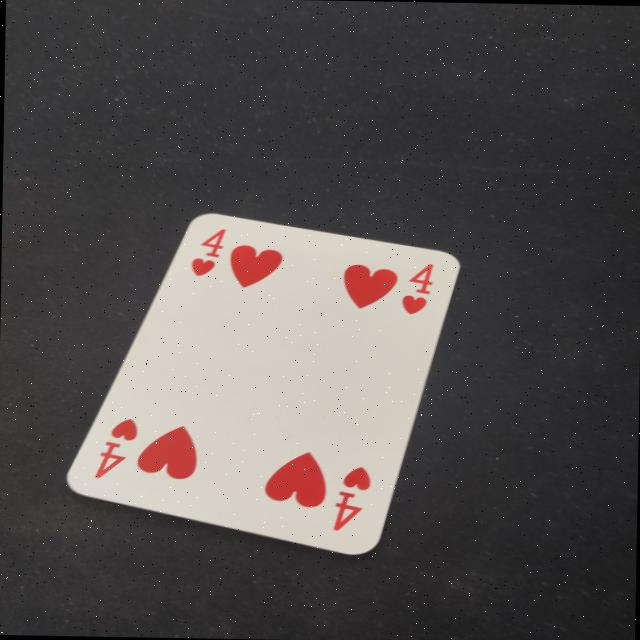4h: (81, 410, 140, 486), (324, 460, 376, 536), (182, 223, 235, 282), (398, 258, 444, 320)
